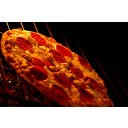pepperonipizza: (2, 28, 116, 106)
